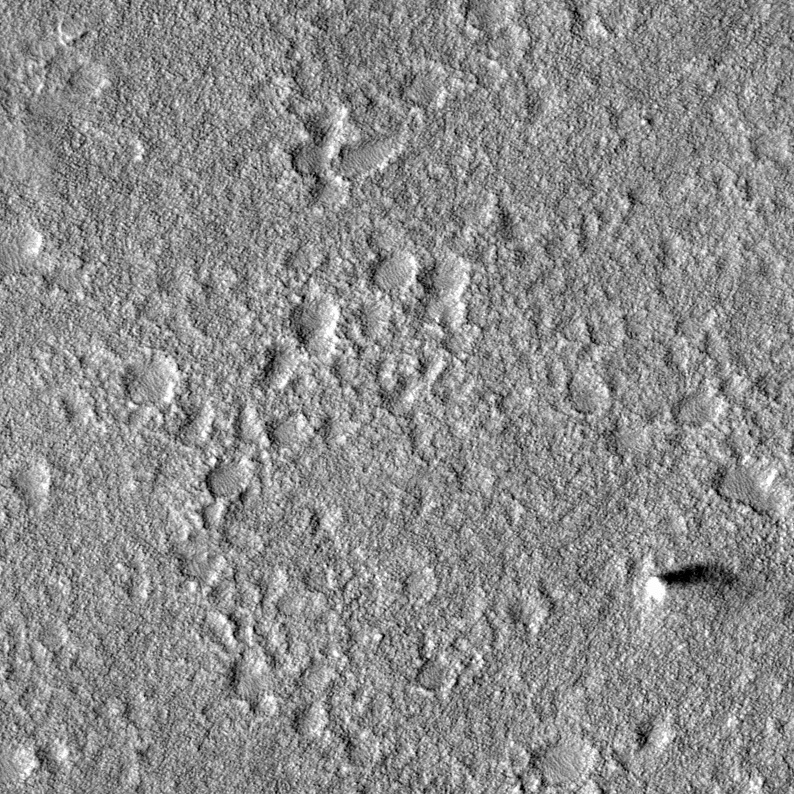dust_devil: (643, 556, 739, 607)
